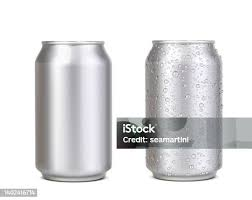can: (33, 36, 116, 183), (144, 37, 227, 184)
